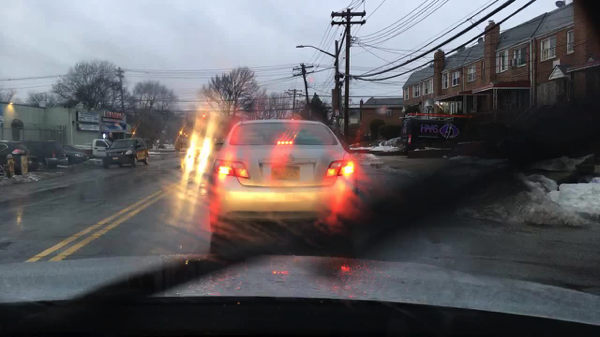car: (207, 118, 358, 240), (103, 137, 149, 169), (1, 139, 44, 173), (19, 140, 68, 168), (203, 140, 224, 178), (182, 143, 208, 171), (62, 144, 90, 164)
truck: (497, 107, 599, 169), (399, 110, 480, 154), (75, 138, 111, 159)
